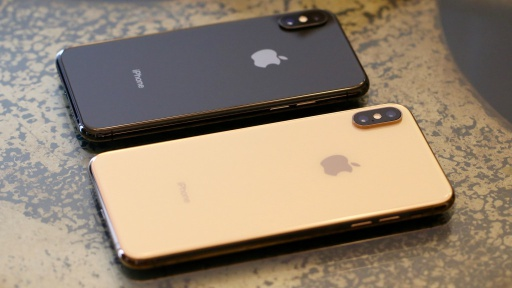apple: (315, 144, 359, 189), (248, 42, 299, 73)
